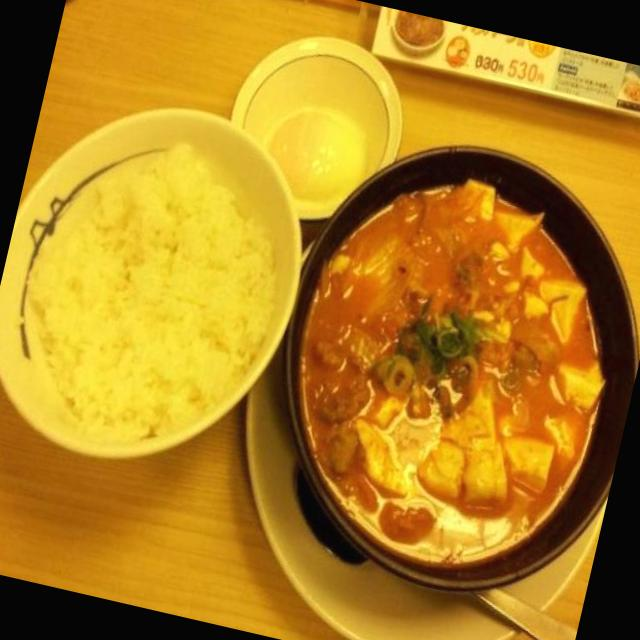Rice: (17, 134, 298, 456)
